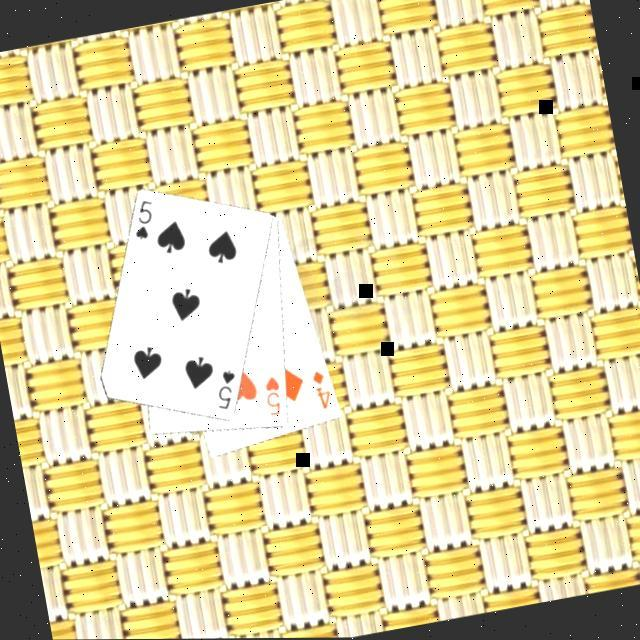4D: (308, 365, 336, 413)
5H: (260, 371, 288, 418)
5S: (209, 364, 245, 414), (126, 194, 162, 243)
